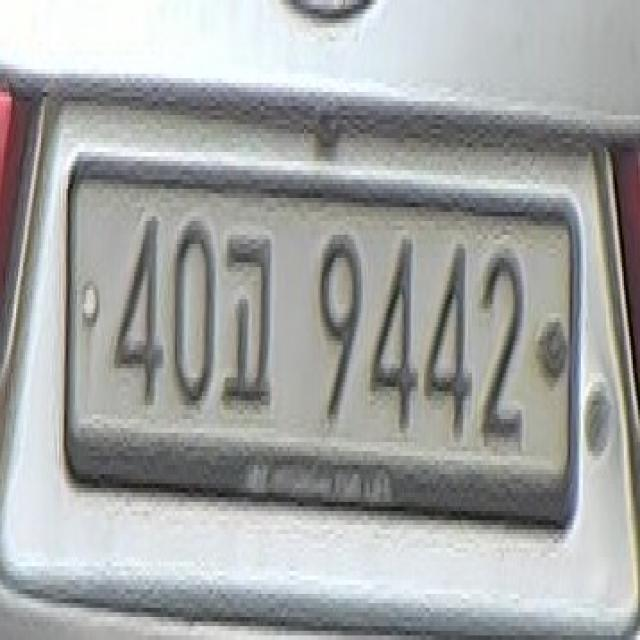0: (174, 221, 218, 414)
2: (476, 244, 526, 451)
4: (418, 244, 474, 442), (111, 207, 161, 405), (368, 230, 418, 428)
9: (313, 230, 363, 424)
go: (222, 221, 272, 414)
license_plate: (62, 152, 576, 525)
